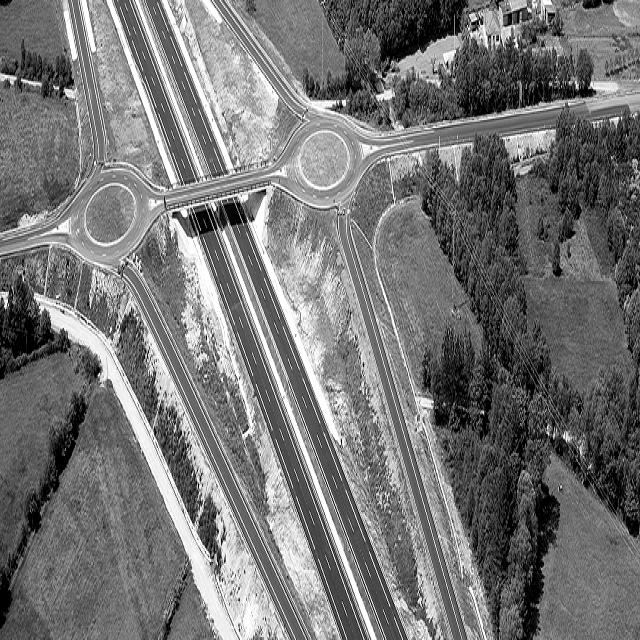cleat: (5, 14, 614, 640)
